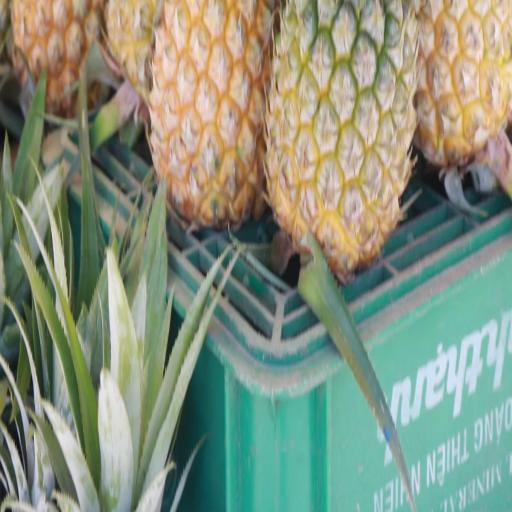------------------------------: (260, 1, 422, 288)
Pineapple - v8 v1: (149, 0, 275, 234)
